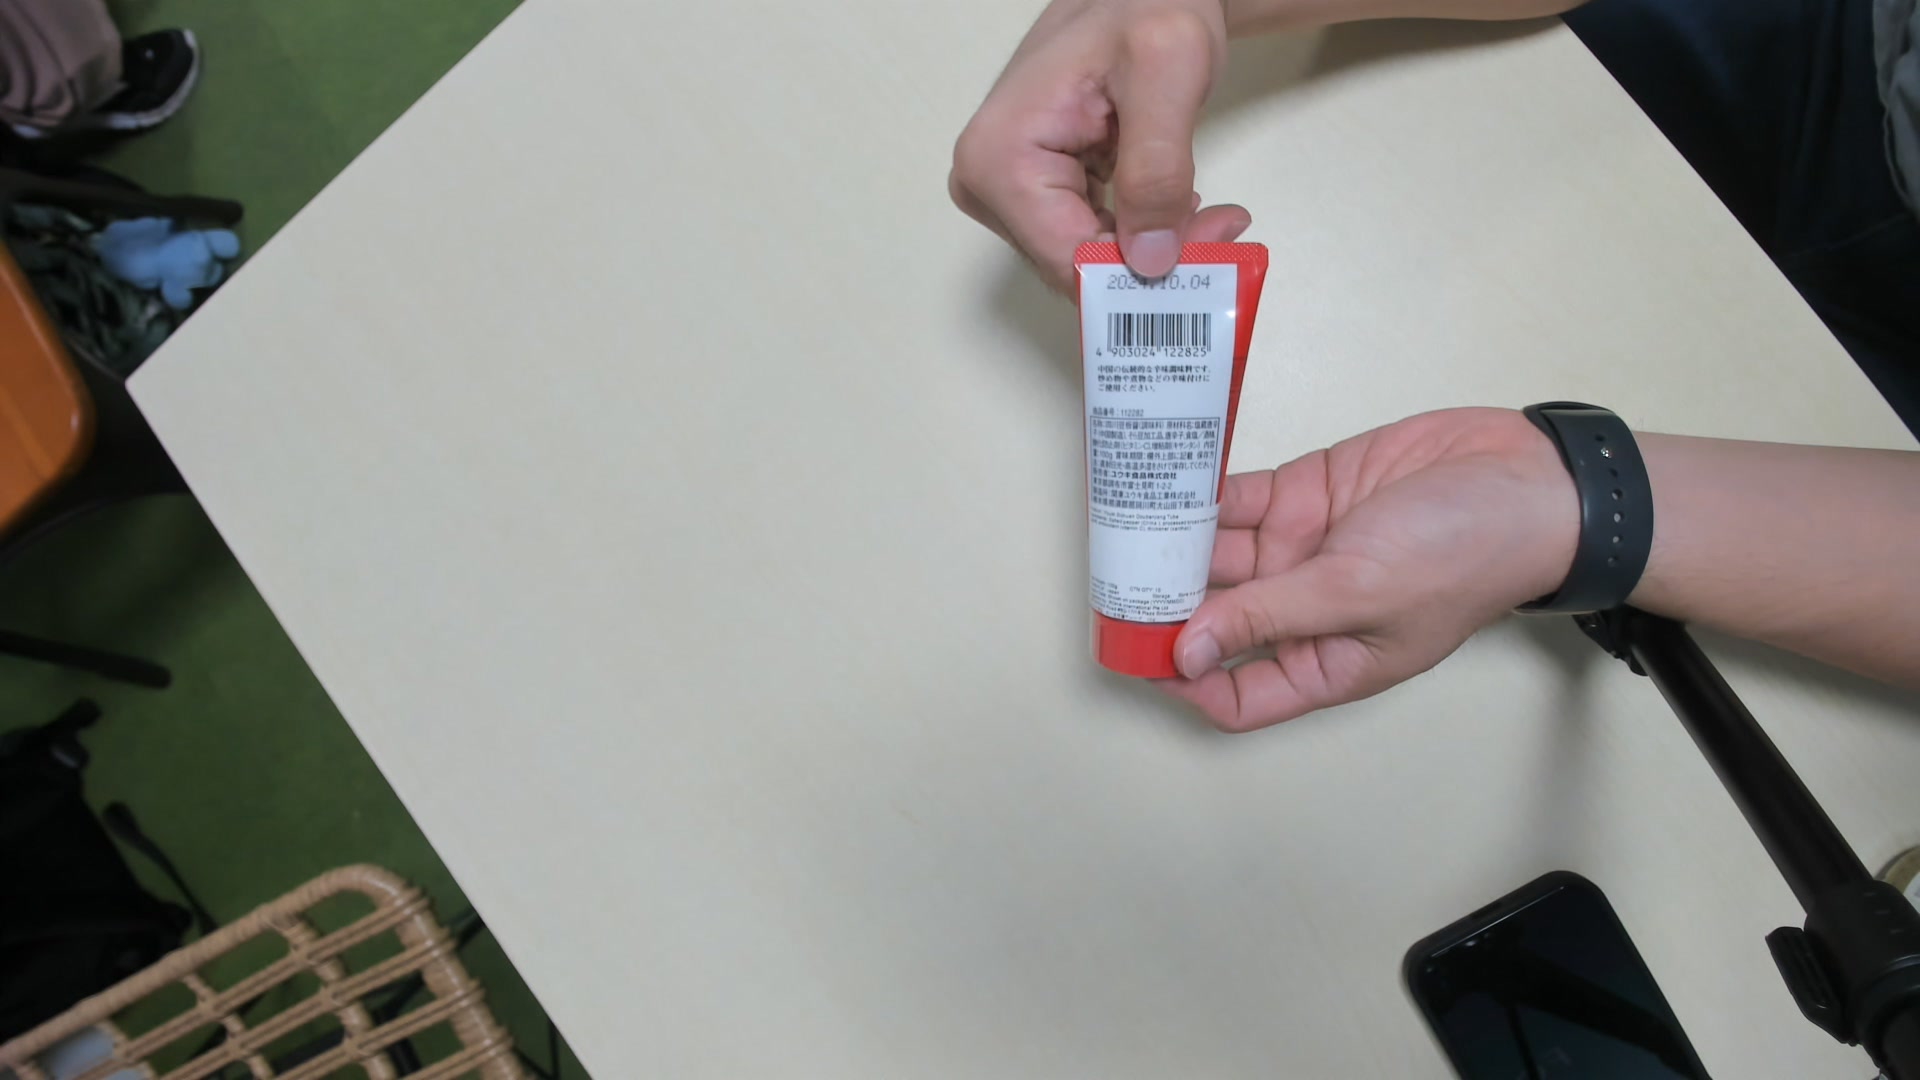OtherSauceDressing_100-199g_NonHalal_NonHealthy: (1075, 241, 1247, 676)
